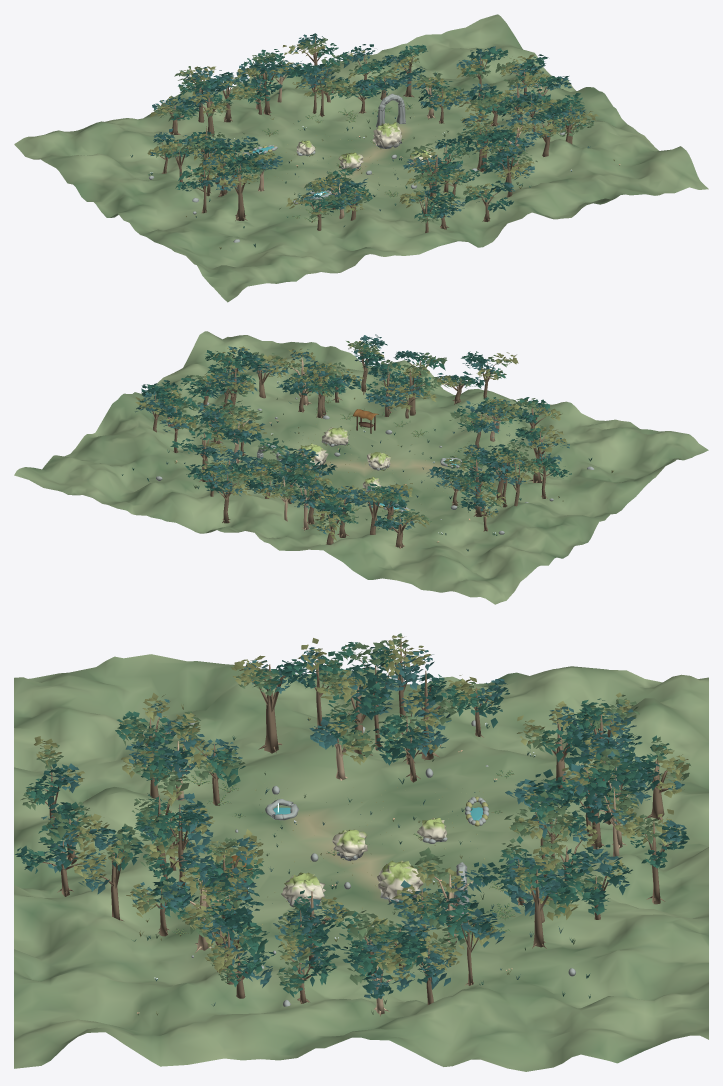
The model's file is world.glb.
The picture shows the model from 3 angles, top to bottom: view 1: azimuth 30°, elevation 25°; view 2: azimuth 150°, elevation 25°; view 3: azimuth 270°, elevation 25°; orthographic projection. The views are drawn at different scales.
Bounding box in the file's own units: 65 × 9.17 × 50.
